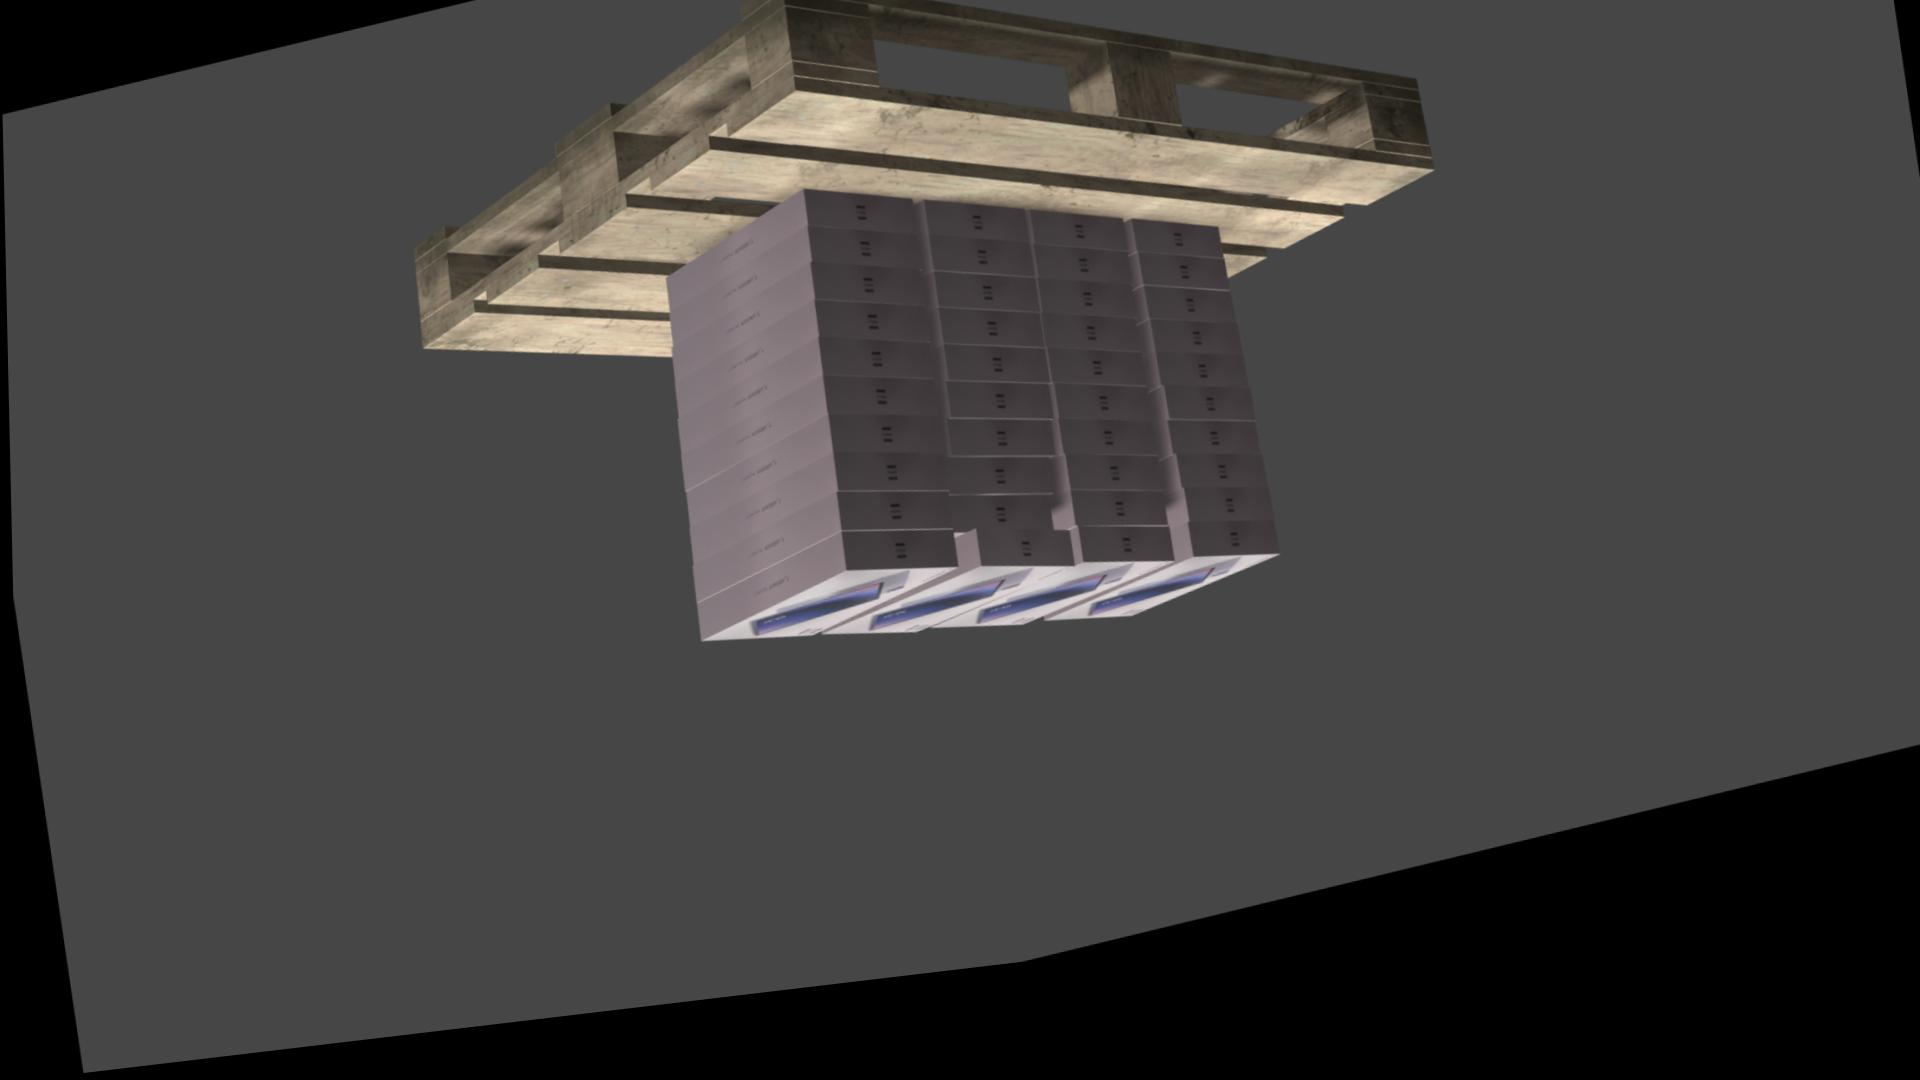palet: (410, 0, 1433, 375)
tablet_left: (665, 208, 915, 327), (667, 245, 920, 363), (669, 282, 923, 398), (678, 394, 936, 506), (675, 356, 928, 469), (673, 319, 927, 431), (687, 472, 944, 580), (683, 434, 940, 542), (695, 551, 953, 657), (690, 513, 949, 617), (952, 551, 1069, 596), (926, 257, 1034, 302), (934, 330, 1042, 373), (931, 294, 1038, 338), (920, 223, 1027, 266), (939, 367, 1048, 409), (942, 404, 1051, 444), (1048, 443, 1155, 484), (1122, 245, 1221, 289), (1056, 514, 1164, 554), (944, 442, 1051, 481), (1168, 551, 1278, 589), (1035, 302, 1134, 344), (1052, 480, 1160, 518), (1127, 280, 1228, 320), (1146, 413, 1253, 451), (1031, 270, 1130, 311), (1164, 516, 1270, 554), (1047, 407, 1149, 447), (1131, 313, 1233, 352), (943, 481, 1051, 518), (1156, 484, 1265, 521), (1039, 338, 1137, 378), (1067, 551, 1171, 589), (1151, 450, 1258, 487), (1030, 236, 1126, 277), (1044, 373, 1143, 413), (948, 518, 1051, 555), (1141, 380, 1244, 417), (1137, 347, 1238, 384)
tablet_top: (700, 589, 952, 657), (822, 589, 1069, 655), (930, 589, 1167, 650), (1040, 585, 1275, 645)
